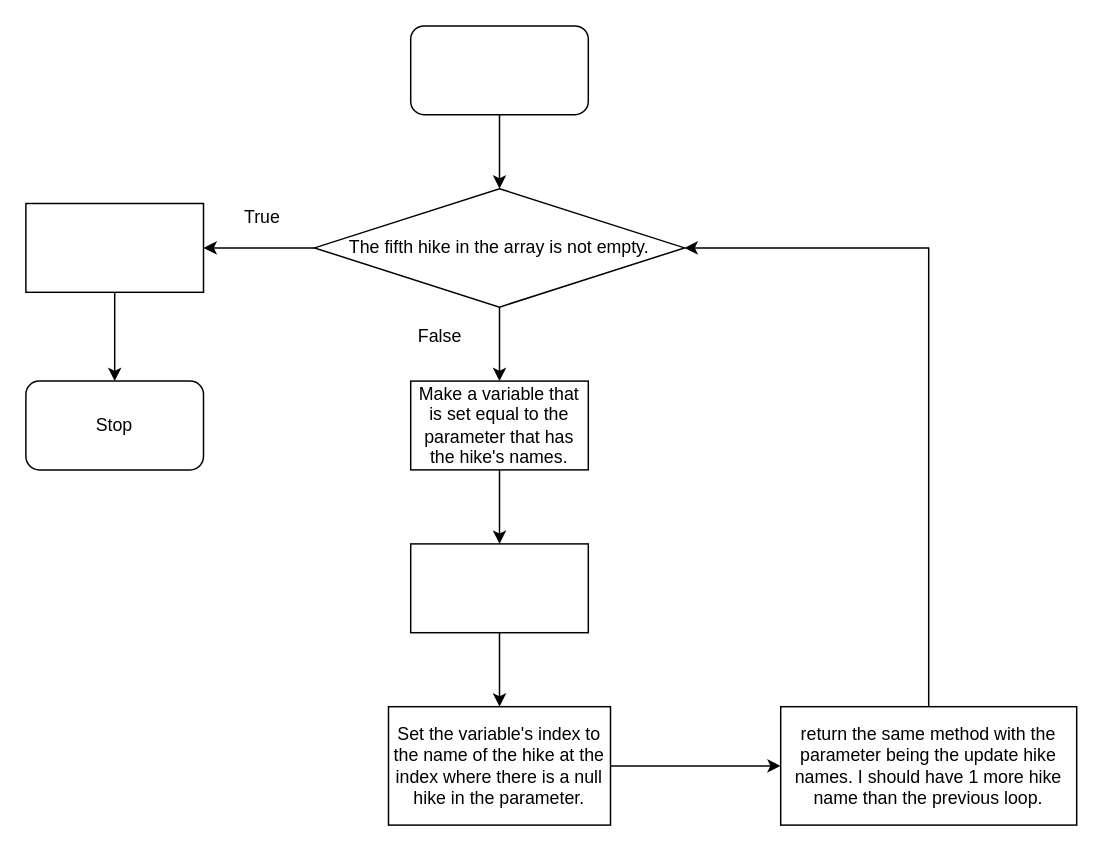
Image size: 1103x851. Some labels were removed from this diagram. Here are the shapes that lost their labels. From the top down, the centre of each, then its label:
(x=498, y=69): Start
(x=114, y=247): return the array that has the names of the hikes.
(x=498, y=587): Find the null index in the variable that is equal to the parameter.
